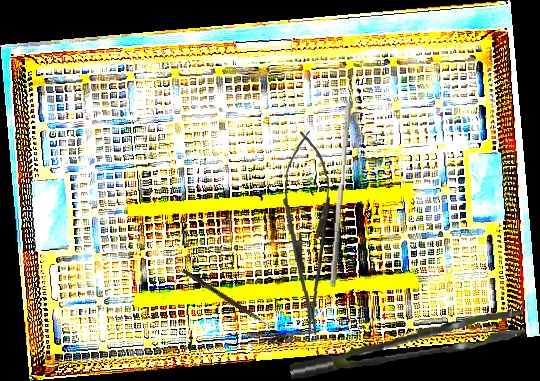Hook Surgical: (181, 268, 279, 333)
Needle Holder: (280, 130, 336, 337)
Pusher: (329, 100, 353, 288)
Tissue Forceps: (286, 310, 528, 379)
